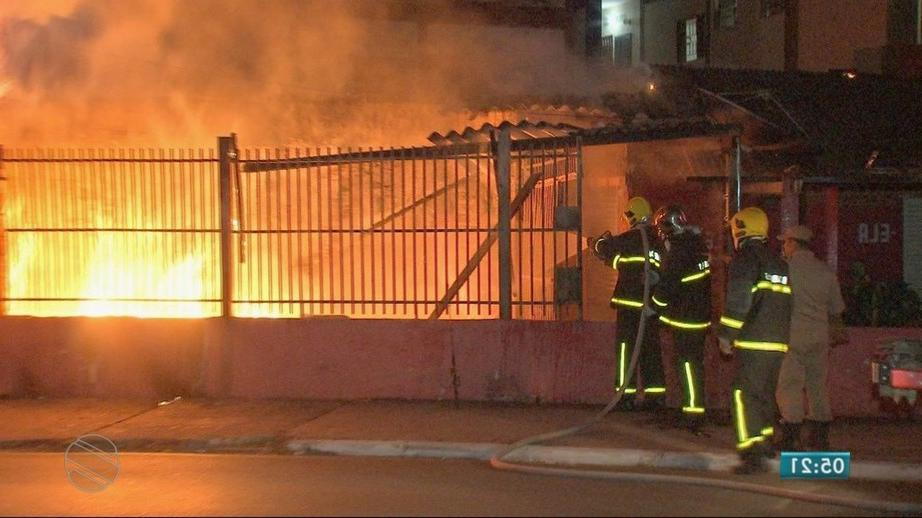Fire: (6, 210, 286, 321)
